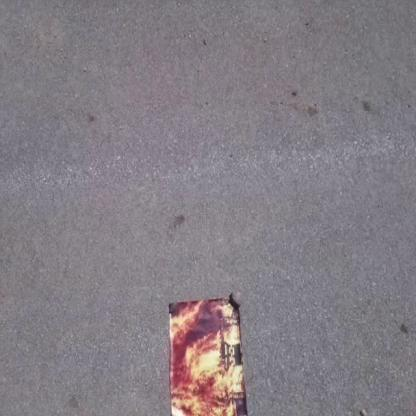fire-poster: (167, 293, 249, 415)
